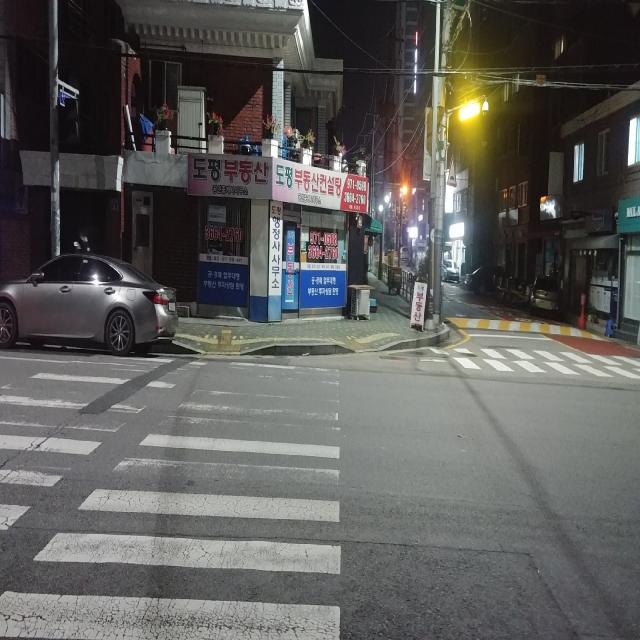횡단보도: (0, 352, 343, 640), (430, 342, 640, 377)
